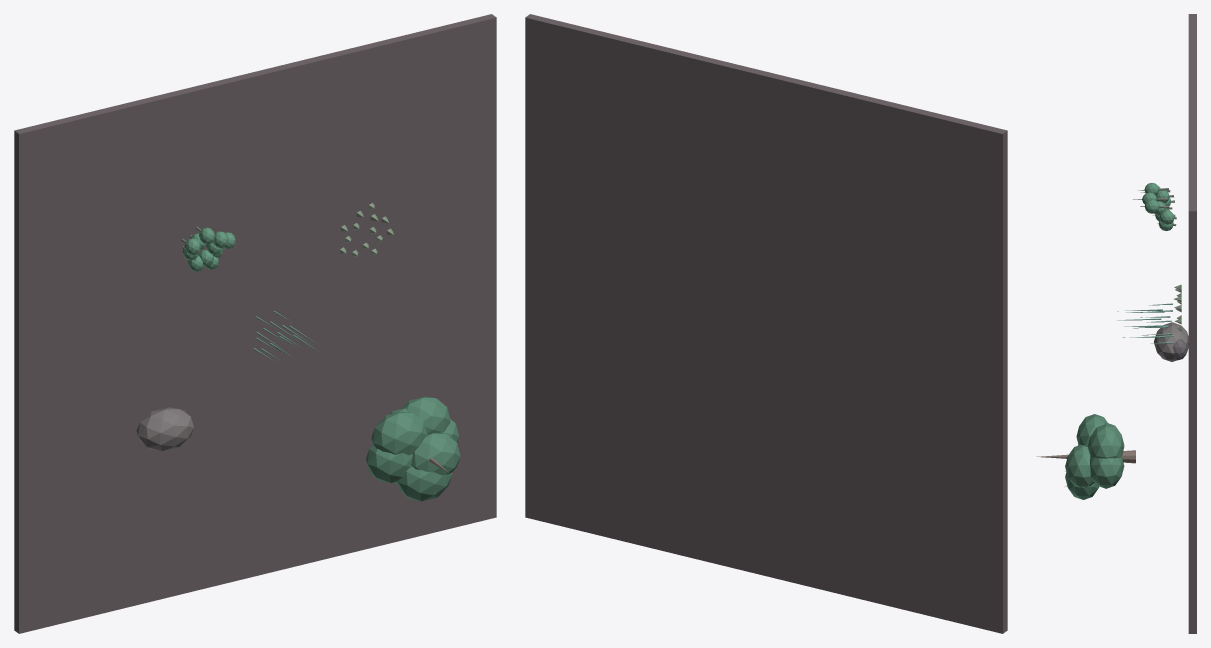
File: VP_STAGE_04.glb
3 views of the same model, side by side, from view 1: azimuth 30°, elevation 25°; view 2: azimuth 150°, elevation 25°; view 3: azimuth 270°, elevation 25° (orthographic). The views are drawn at different scales.
Parts seen in each view (by area): view 1: world; view 2: world; view 3: world.
Part boxes in pixels (bbox=[...]): world: bbox=[14, 14, 496, 633]; world: bbox=[525, 14, 1007, 633]; world: bbox=[1036, 14, 1196, 633].
Size of the model in its own units: 14 by 14 by 4.82.
